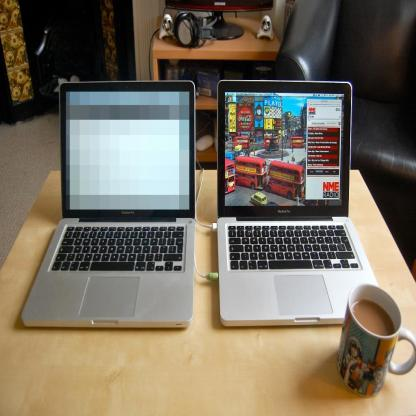board: (20, 76, 193, 331), (217, 78, 378, 326)
